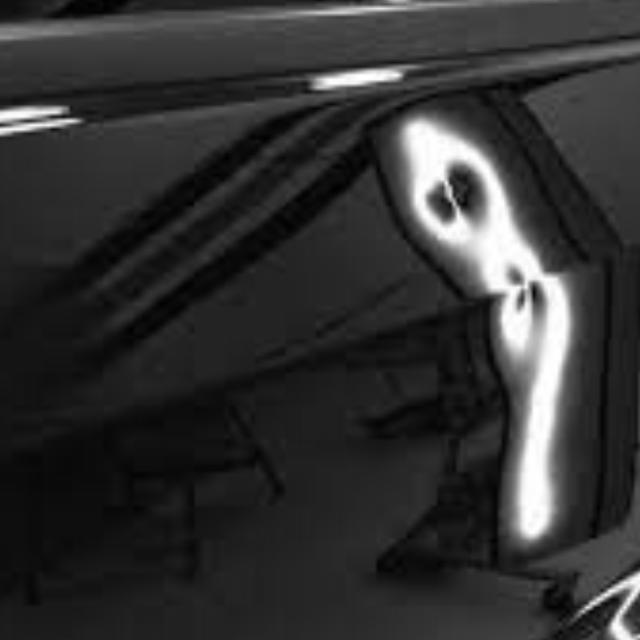dents: (403, 128, 496, 234), (498, 260, 569, 354)
